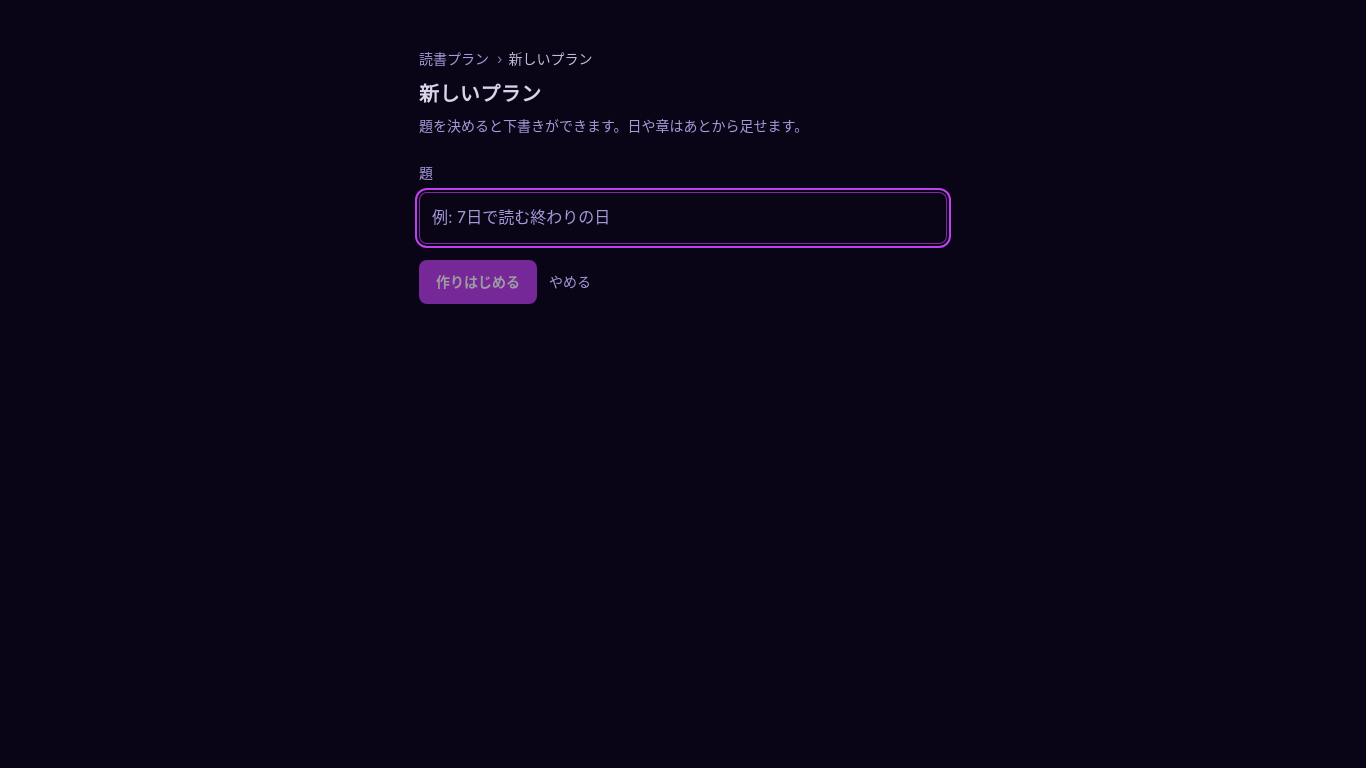
読書プランの新規作成 › 入力後にやめる場合は破棄を確認する
Type "福音書を読む" into the field labelled "題" at x=683, y=218, box [419, 192, 947, 244]
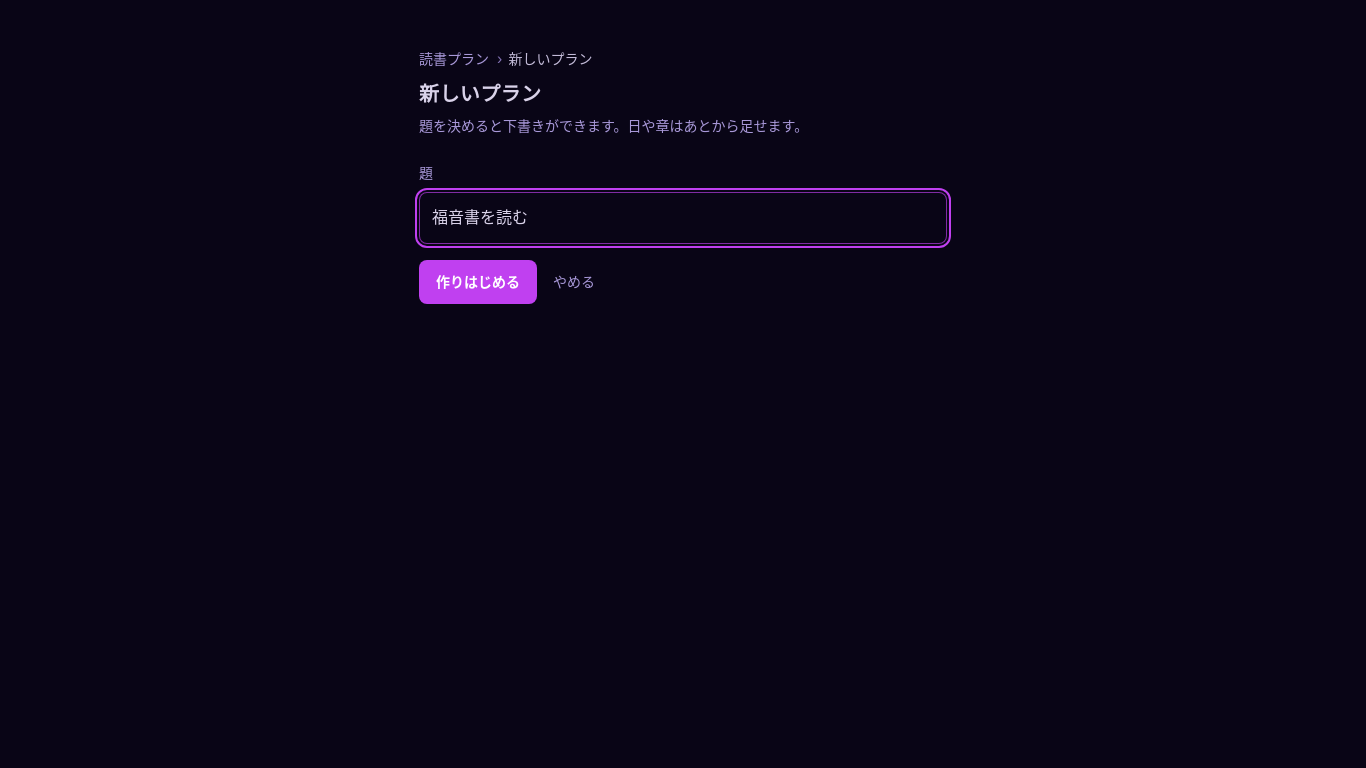
Click the button "やめる" at x=574, y=282, box [549, 260, 599, 304]
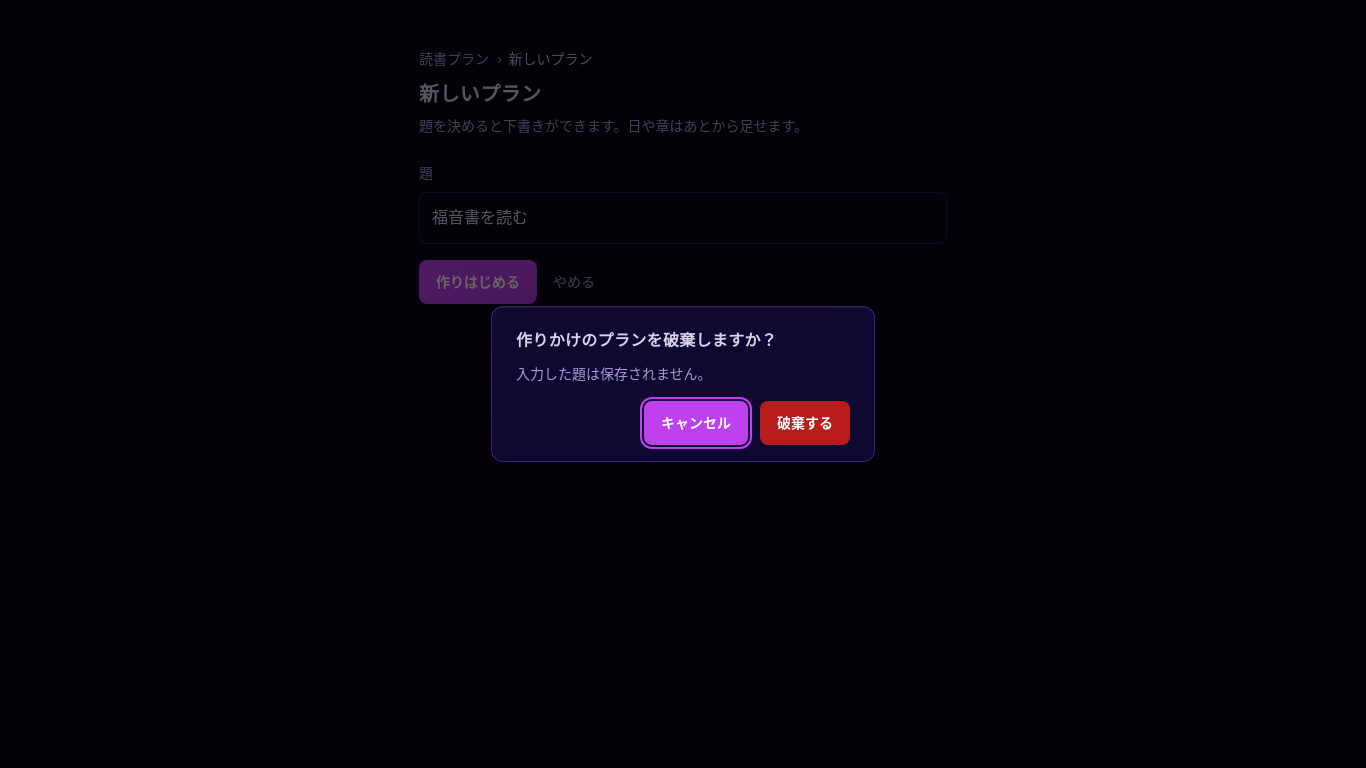
Expected: the dialog "作りかけのプランを破棄しますか？" is shown, [491, 306, 875, 462]
